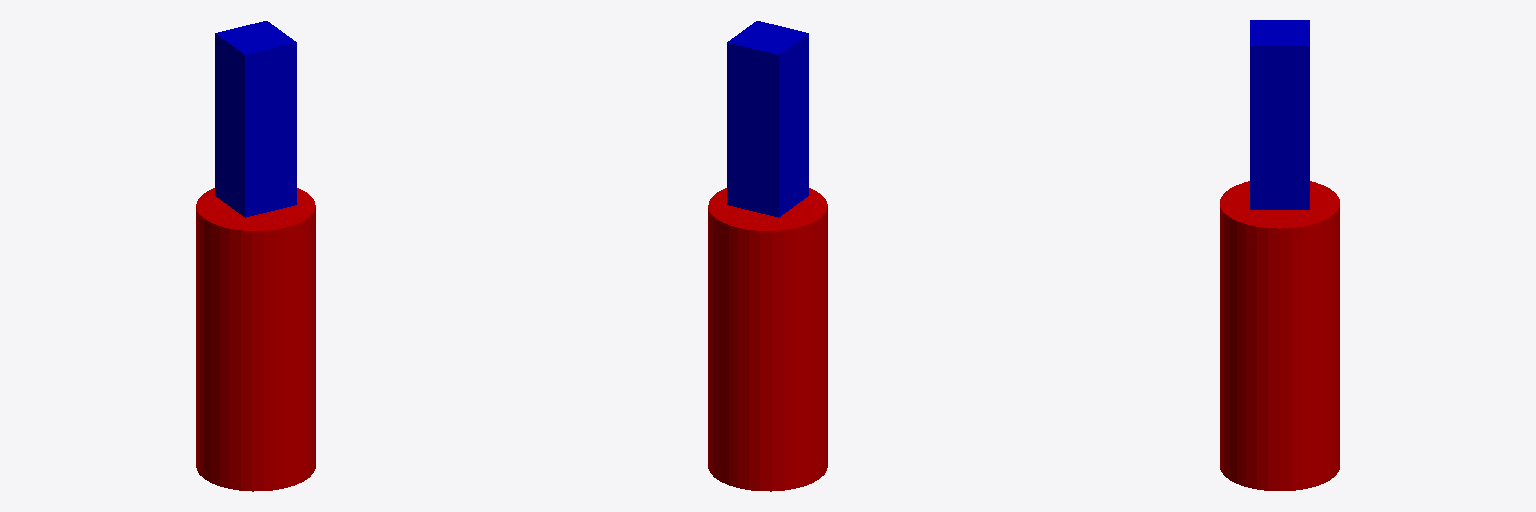
The robot description file, URDF, robot "simple_model":
<?xml version="1.0"?>
<robot name="simple_model">

<gazebo>
  <plugin name="gazebo_ros_control" filename="libgazebo_ros_control.so">
    <robotNamespace>/simple_model</robotNamespace>
    <robotSimType>gazebo_ros_control/DefaultRobotHWSim</robotSimType>
    <legacyModeNS>true</legacyModeNS>
  </plugin>
</gazebo>

<material name="red">
  <color rgba="0.8 0 0 1"/>
</material>
<material name="green">
  <color rgba="0 0.8 0 1"/>
</material>
<material name="blue">
  <color rgba="0 0 0.8 1"/>
</material>

<link name="dummy_link">
</link>

<link name="base_link">
  <inertial>
    <mass value="10"/>
    <inertia ixx="0.4" ixy="0.0" ixz="0.0" iyy="0.4" iyz="0.0" izz="0.2"/>
  </inertial>
  <collision>
    <geometry>
      <cylinder radius="0.05" length="0.24"/>
    </geometry>
  </collision>
  <visual>
    <geometry>
      <cylinder radius="0.05" length="0.24"/>
    </geometry>
    <material name="red"/>
  </visual>
</link>

<gazebo reference="base_link">
  <material>Gazebo/Red</material>
</gazebo>

<joint name="dummy_base_joint" type="fixed">
  <parent link="dummy_link"/>
  <child link="base_link"/>
</joint>

<link name="second_link">
  <inertial>
    <mass value="0.18"/>
    <inertia ixx="0.0002835" ixy="0.0" ixz="0.0" iyy="0.0002835" iyz="0.0" izz="0.000324"/>
  </inertial>
  <origin rpy="0.0 0.0 0.0" xyz="0.0 0.0 0.0"/>
  <collision>
    <geometry>
      <box size="0.05 0.05 0.15"/>
    </geometry>
  </collision>
  <visual>
    <geometry>
      <box size="0.05 0.05 0.15"/>
    </geometry>
    <material name="blue"/>
  </visual>
</link>

<gazebo reference="second_link">
  <material>Gazebo/Blue</material>
</gazebo>

<joint name="base_to_second_joint" type="continuous">
  <parent link="base_link"/>
  <child link="second_link"/>
  <axis xyz="1 0 0"/>
  <origin xyz="0.0 0.0 0.2" rpy="0.0 0.0 0.0"/> 
</joint>

<transmission name="trans1">
  <type>transmission_interface/SimpleTransmission</type>
  <joint name="base_to_second_joint">
    <hardwareInterface>hardware_interface/EffortJointInterface</hardwareInterface>
  </joint>
  <actuator name="motor1">
    <hardwareInterface>hardware_interface/EffortJointInterface</hardwareInterface>
    <mechanicalReduction>1</mechanicalReduction>
  </actuator>
</transmission>

</robot>

--- Render facts (derived) ---
3 views of the same robot in one strip: view 1: azimuth 30°, elevation 25°; view 2: azimuth 150°, elevation 25°; view 3: azimuth 270°, elevation 25° (orthographic).
Model simple_model with 3 links and 2 joints (1 continuous, 1 fixed), rooted at dummy_link, posed all joints at 0.
Visible links, largest first — view 1: base_link, second_link; view 2: base_link, second_link; view 3: base_link, second_link.
Link boxes in pixels (box(x1,y1,x2,y2)): base_link: box(196, 188, 315, 491); second_link: box(215, 21, 296, 217); base_link: box(708, 188, 827, 491); second_link: box(727, 21, 808, 217); base_link: box(1220, 181, 1339, 490); second_link: box(1250, 20, 1309, 209).
Bounding box of the posed robot: 0.1 × 0.1 × 0.395 m (x, y, z).
Geometry: primitives only (box / cylinder / sphere), no mesh files.